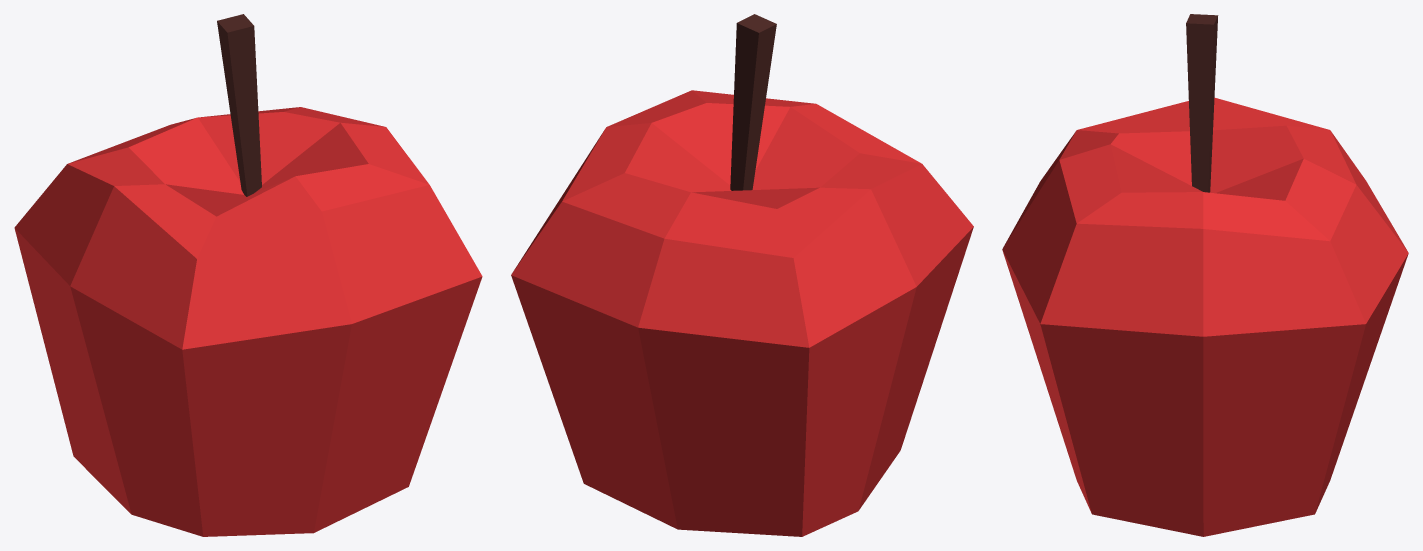
The model's file is apple.fbx.
3 renders of one model, left to right at view 1: azimuth 30°, elevation 25°; view 2: azimuth 150°, elevation 25°; view 3: azimuth 270°, elevation 25°, orthographic. The views are drawn at different scales.
Visible parts, largest first — view 1: apple; view 2: apple; view 3: apple.
Boxes of the visible parts, bbox=[...] form: apple: bbox=[14, 14, 482, 536]; apple: bbox=[511, 14, 973, 536]; apple: bbox=[1002, 14, 1408, 536].
Size of the model in its own units: 10.08 by 12.98 by 10.18.
1 material, 1 textured.
